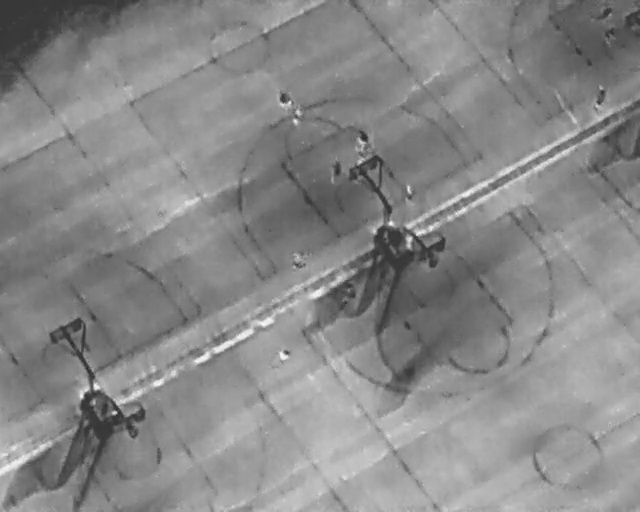Person: (588, 82, 610, 114), (289, 246, 312, 272), (592, 3, 617, 25), (601, 22, 619, 47), (276, 89, 295, 112), (289, 106, 305, 129), (356, 127, 370, 153), (274, 346, 292, 366), (331, 155, 342, 183), (405, 183, 415, 202)
